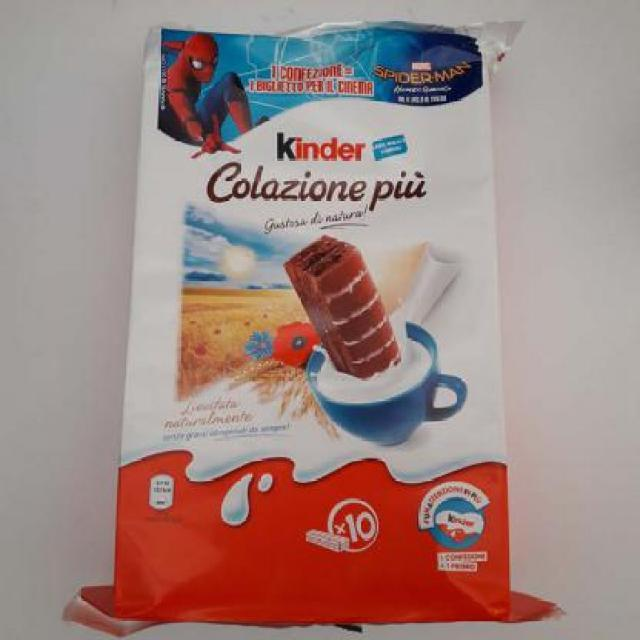Merendine: (61, 15, 566, 637)
Merendine packaged: (282, 234, 402, 383)
